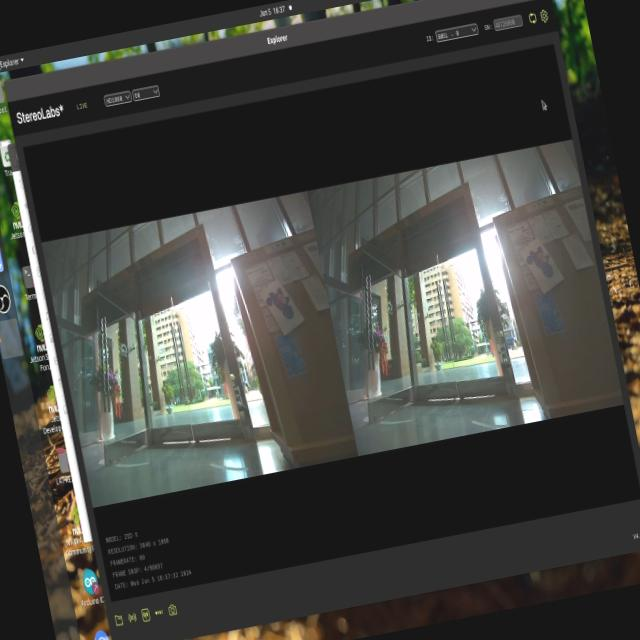blue: (514, 238, 560, 290), (261, 280, 298, 329)
